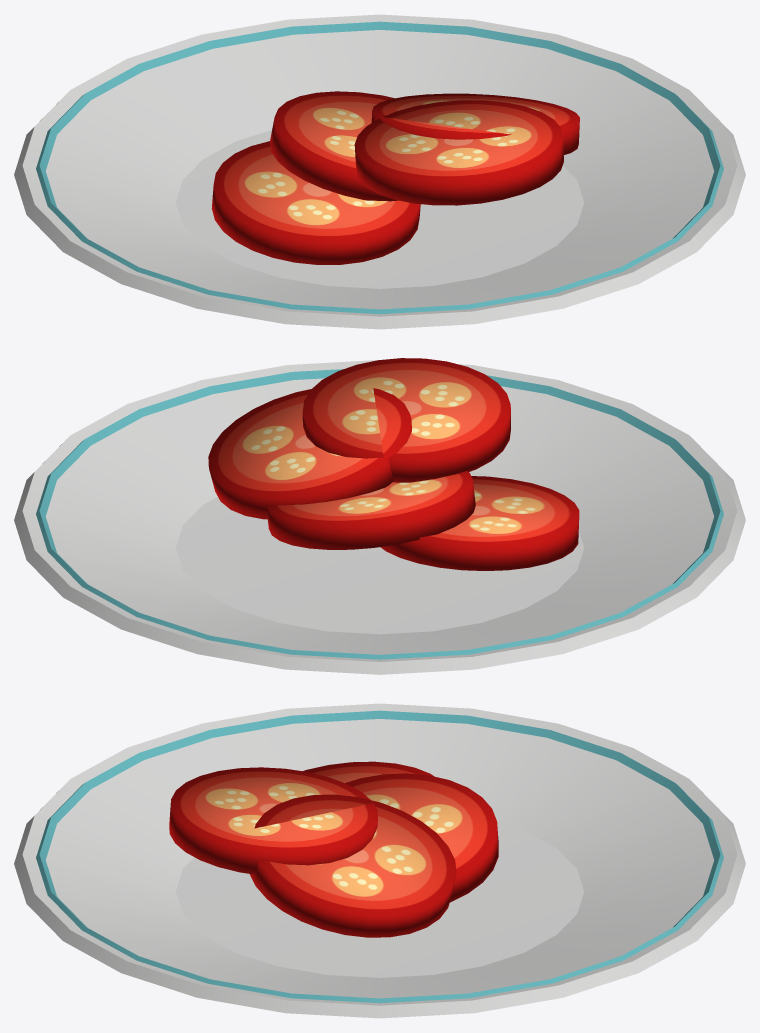
The model's file is kr_dish_tomatoes.glb.
3 renders of one model, top to bottom at view 1: azimuth 30°, elevation 25°; view 2: azimuth 150°, elevation 25°; view 3: azimuth 270°, elevation 25°, orthographic.
Parts seen in each view (by area): view 1: vc_m0_r2, kr_dish_tomatoes_f_tomslice, vc_m0_r4; view 2: vc_m0_r2, kr_dish_tomatoes_f_tomslice, vc_m0_r4; view 3: vc_m0_r2, kr_dish_tomatoes_f_tomslice, vc_m0_r4.
Boxes of the visible parts, x1,y1,x2,y2 form: vc_m0_r2: (14, 14, 745, 329); kr_dish_tomatoes_f_tomslice: (211, 91, 579, 264); vc_m0_r4: (36, 21, 723, 314); vc_m0_r2: (14, 360, 745, 674); kr_dish_tomatoes_f_tomslice: (208, 358, 579, 570); vc_m0_r4: (36, 369, 723, 659); vc_m0_r2: (14, 703, 745, 1018); kr_dish_tomatoes_f_tomslice: (169, 761, 498, 937); vc_m0_r4: (36, 710, 723, 1003).
Size of the model in its own units: 0.43 by 0.0836 by 0.43.
3 materials, 1 textured.
